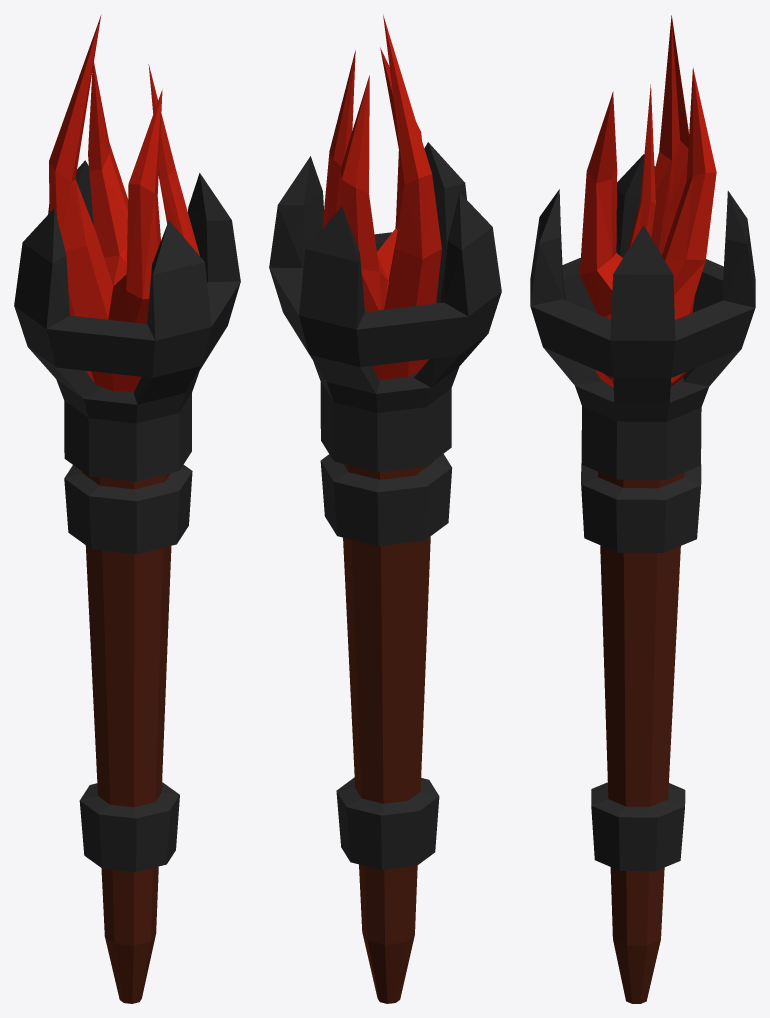
Rendered from Torch.obj.
The picture shows the model from 3 angles, left to right: view 1: azimuth 30°, elevation 25°; view 2: azimuth 150°, elevation 25°; view 3: azimuth 270°, elevation 25°; orthographic projection. The views are drawn at different scales.
Parts seen in each view (by area): view 1: Torch_Cube.000; view 2: Torch_Cube.000; view 3: Torch_Cube.000.
Boxes of the visible parts, x1,y1,x2,y2 form: Torch_Cube.000: [14, 15, 240, 1003]; Torch_Cube.000: [269, 14, 501, 1003]; Torch_Cube.000: [530, 15, 755, 1003].
Bounding box in the file's own units: 0.4472 × 2.14 × 0.4472.
